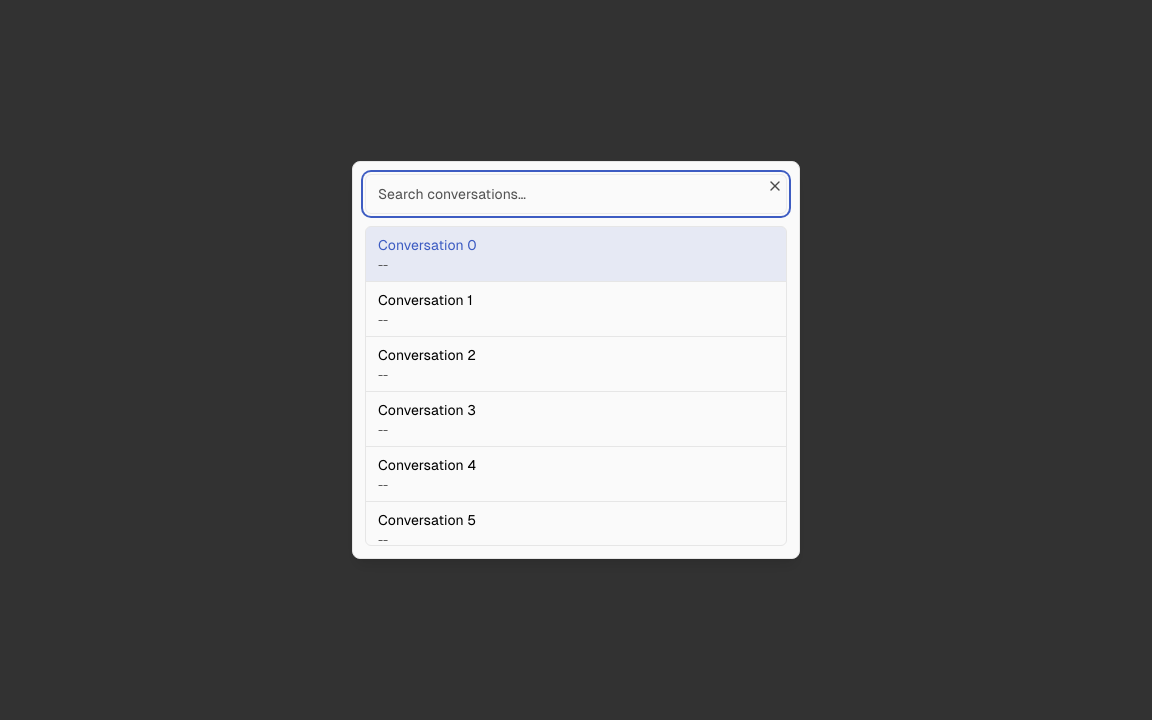
Test case: ConversationSearchOverlay › shows a no-match state when nothing filters in
This screenshot has width=1152, height=720.
In the field: (576, 194) left=365, top=174, right=787, bottom=214, type "zzz-no-match"
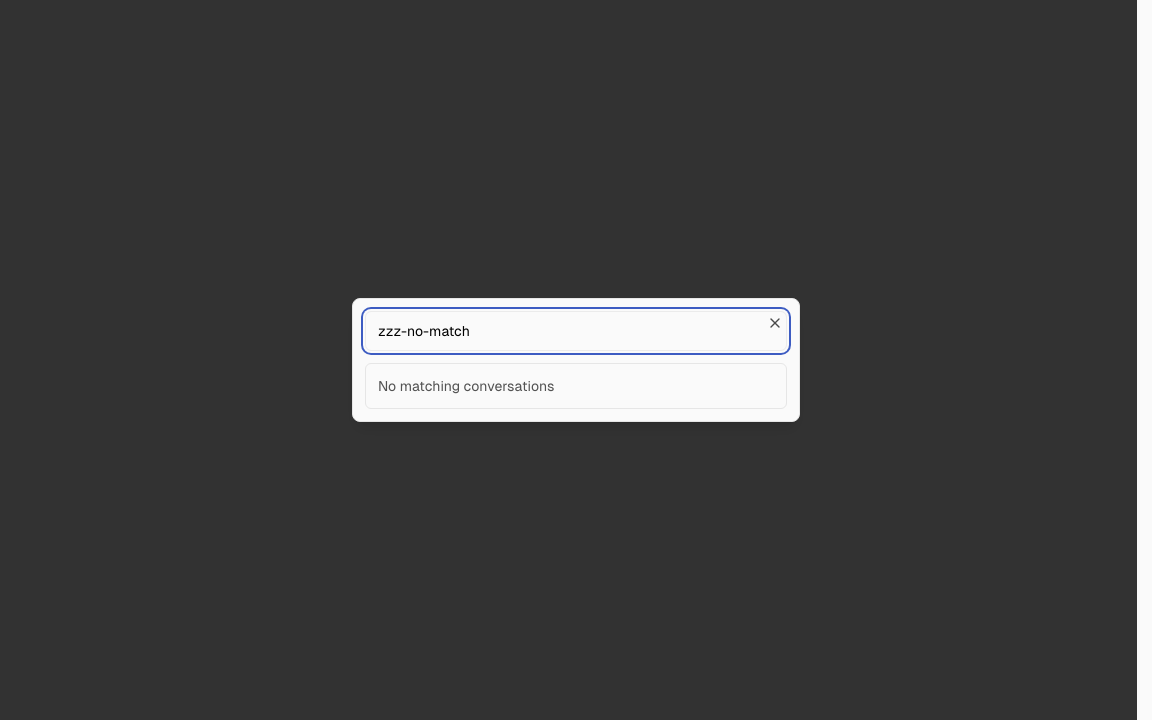
Expected: the text "No matching conversations" is shown, left=378, top=378, right=554, bottom=394
Expected: no options are shown
